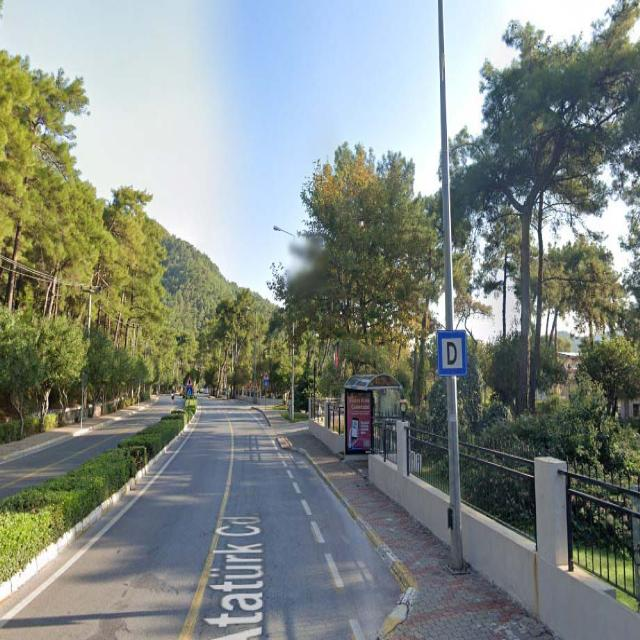durak: (438, 331, 467, 374)
